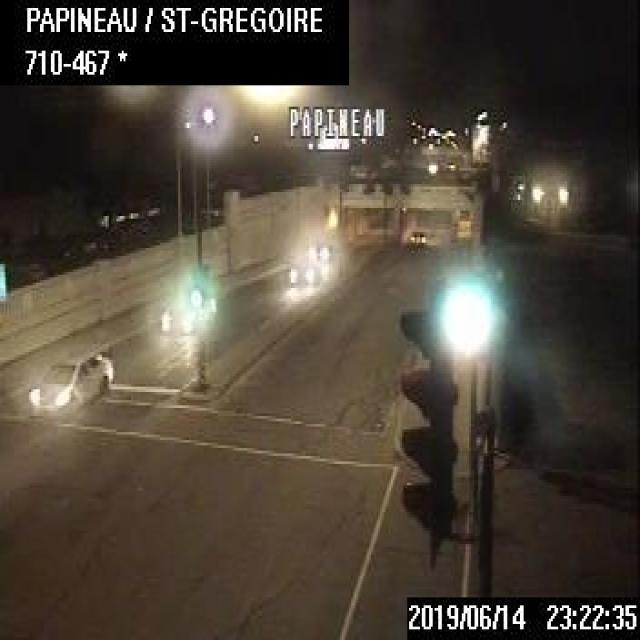vehicle: (25, 344, 113, 419), (160, 304, 198, 336), (304, 229, 338, 256), (286, 258, 316, 282), (404, 229, 426, 243)
